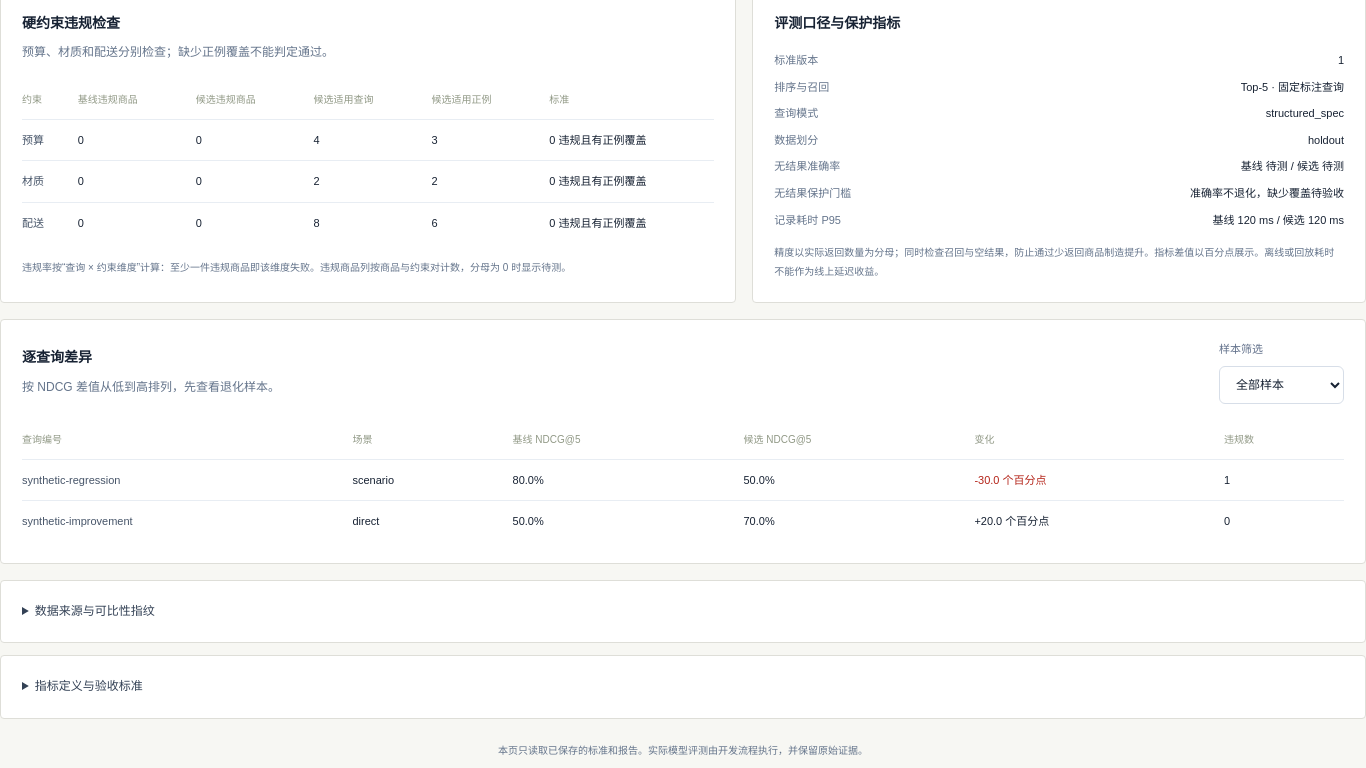
Scenario: 展示前后四指标、百分点门槛、约束覆盖与可追溯指纹，并筛选退化样本
This screenshot has width=1366, height=768.
(page scrolled)
Expected: the row "synthetic-regression scenario 80.0% 50.0% -30.0 个百分点 1" is shown, left=22, top=459, right=1344, bottom=501
Step 1. Select "排序退化" in the dropdown labelled "样本筛选" → coordinates (1282, 385), box left=1219, top=366, right=1344, bottom=404
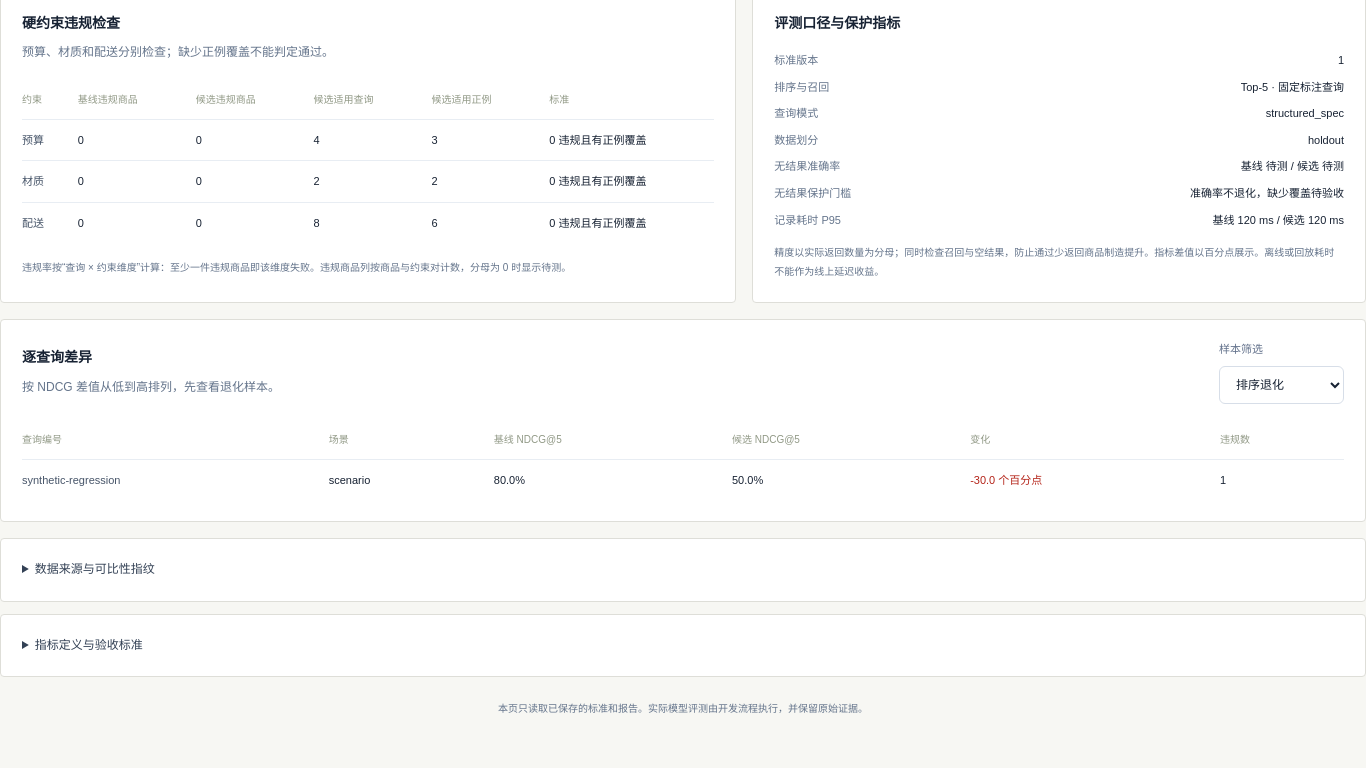
Expected: the column heading with class "retrieval-cases" no longer shows "synthetic-improvement"
